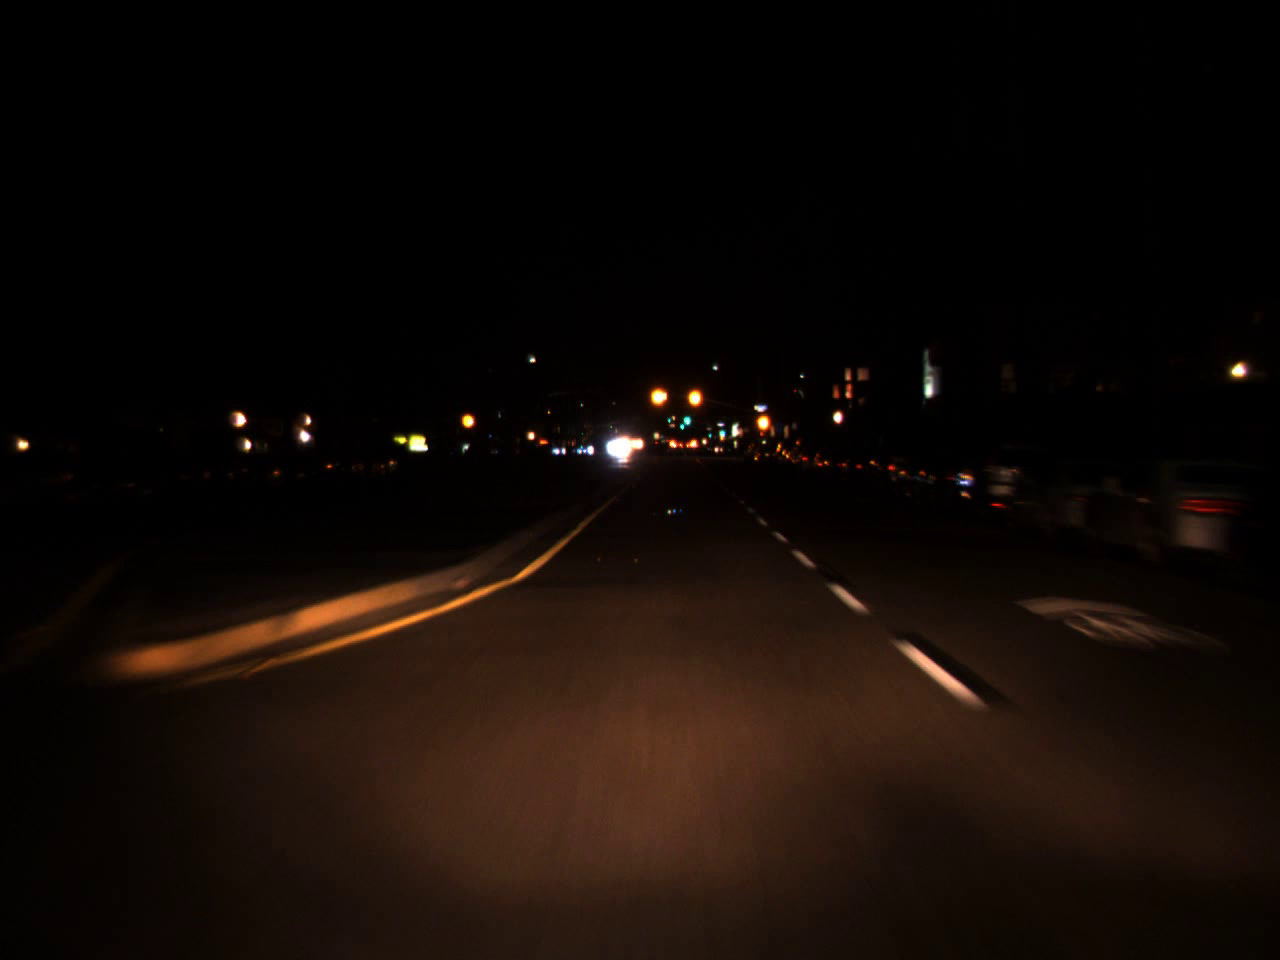go: (682, 406, 689, 427), (678, 416, 685, 431), (718, 424, 725, 436)
warning: (648, 376, 670, 416), (685, 377, 703, 417), (753, 404, 772, 439), (459, 404, 477, 434)
